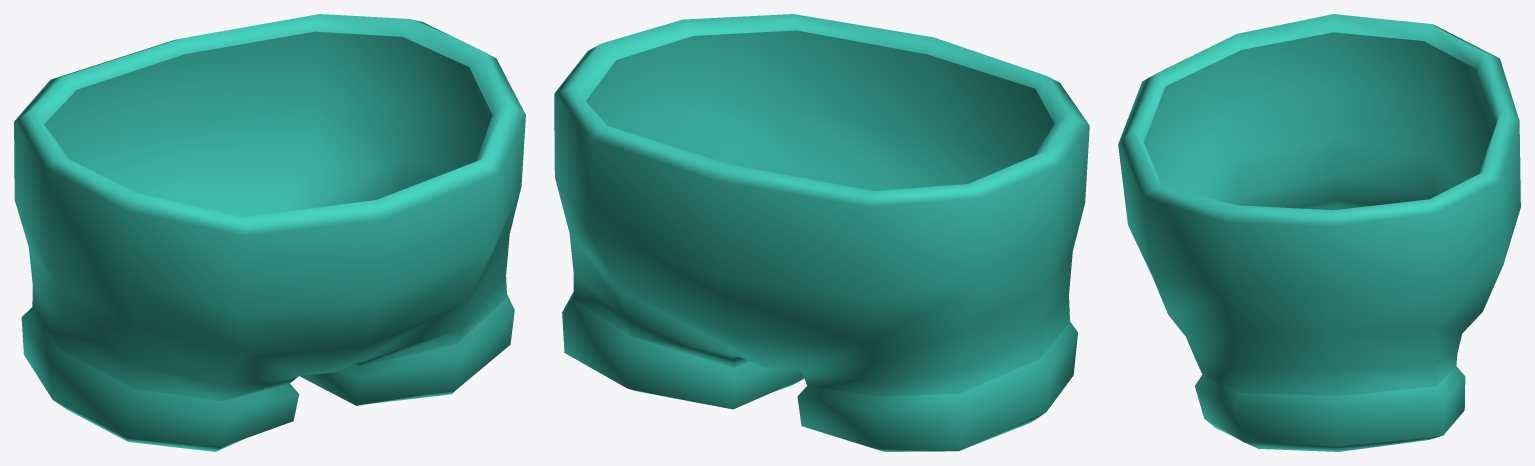
Rendered from Bottom_51.fbx.
3 renders of one model, left to right at view 1: azimuth 30°, elevation 25°; view 2: azimuth 150°, elevation 25°; view 3: azimuth 270°, elevation 25°, orthographic. The views are drawn at different scales.
Parts seen in each view (by area): view 1: Bottom_51; view 2: Bottom_51; view 3: Bottom_51.
Boxes of the visible parts, x1=… form: Bottom_51: x1=14, y1=14, x2=525, y2=451; Bottom_51: x1=554, y1=14, x2=1089, y2=451; Bottom_51: x1=1118, y1=14, x2=1520, y2=451.
Bounding box in the file's own units: 38.42 × 22.89 × 31.34.
